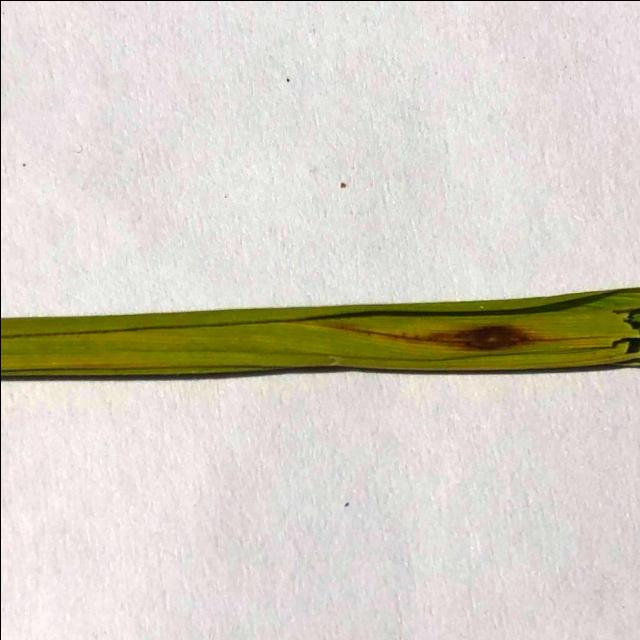Leaf blast: (300, 310, 606, 370)
